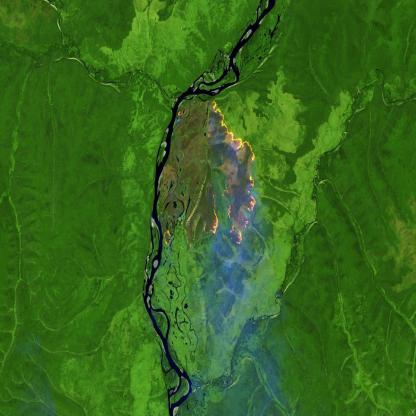fire: (186, 97, 260, 250), (160, 229, 176, 253)
